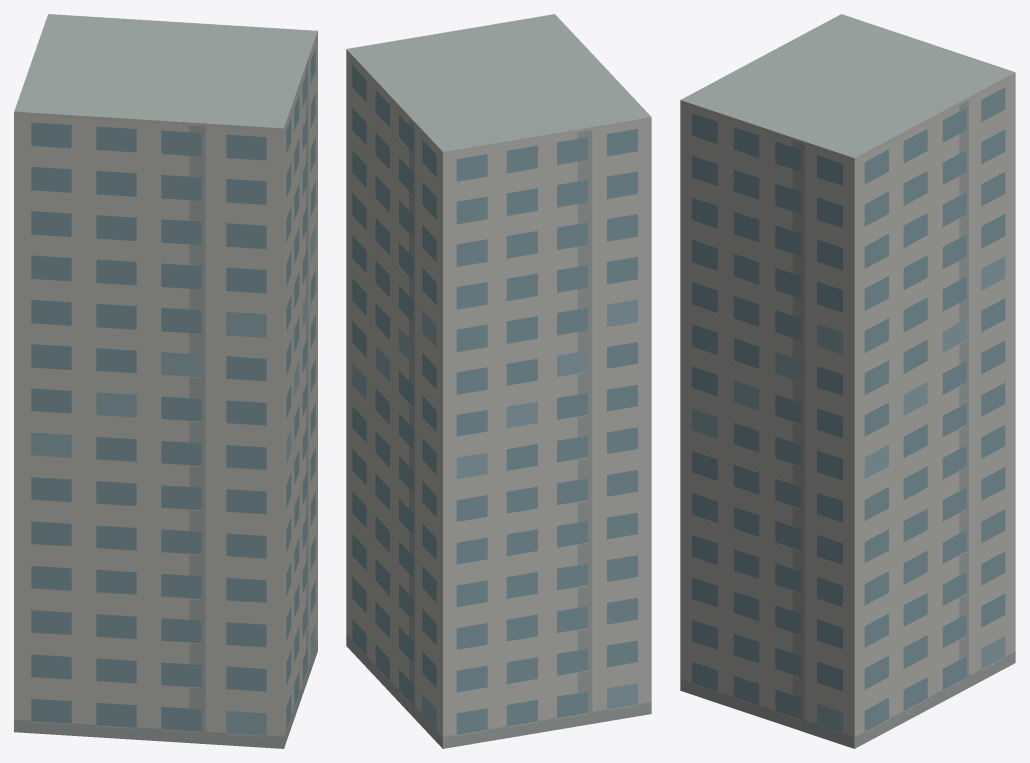
The model's file is residential-78e4fd28-fa24-4511-aec2-118d7459b8dd.glb.
The picture shows the model from 3 angles, left to right: view 1: azimuth 30°, elevation 25°; view 2: azimuth 150°, elevation 25°; view 3: azimuth 270°, elevation 25°; orthographic projection. The views are drawn at different scales.
Parts seen in each view (by area): view 1: residential-78e4fd28-fa24-4511-aec2-118d7459b8dd.tmp; view 2: residential-78e4fd28-fa24-4511-aec2-118d7459b8dd.tmp; view 3: residential-78e4fd28-fa24-4511-aec2-118d7459b8dd.tmp.
Boxes of the visible parts, <box> form: residential-78e4fd28-fa24-4511-aec2-118d7459b8dd.tmp: <box>14,14,317,748</box>; residential-78e4fd28-fa24-4511-aec2-118d7459b8dd.tmp: <box>346,14,651,748</box>; residential-78e4fd28-fa24-4511-aec2-118d7459b8dd.tmp: <box>680,14,1015,748</box>.
Bounding box in the file's own units: 26.19 × 50 × 25.72.
